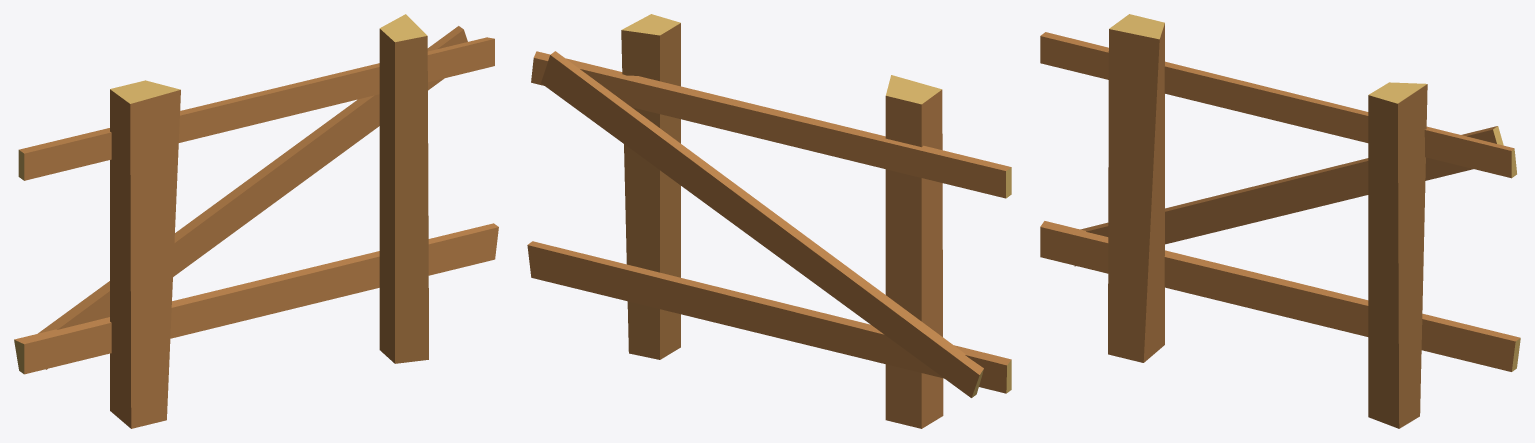
File: fence.glb
3 views of the same model, side by side, from view 1: azimuth 30°, elevation 25°; view 2: azimuth 150°, elevation 25°; view 3: azimuth 330°, elevation 25° (orthographic).
Parts seen in each view (by area): view 1: Fense-ver1-light; view 2: Fense-ver1-light; view 3: Fense-ver1-light.
Part boxes in pixels (x1=…): Fense-ver1-light: x1=14, y1=14, x2=498, y2=428; Fense-ver1-light: x1=527, y1=14, x2=1011, y2=428; Fense-ver1-light: x1=1040, y1=14, x2=1520, y2=428.
Size of the model in its own units: 1.61 by 1.05 by 0.2145.
Materials: 1 (1 with a texture image).
